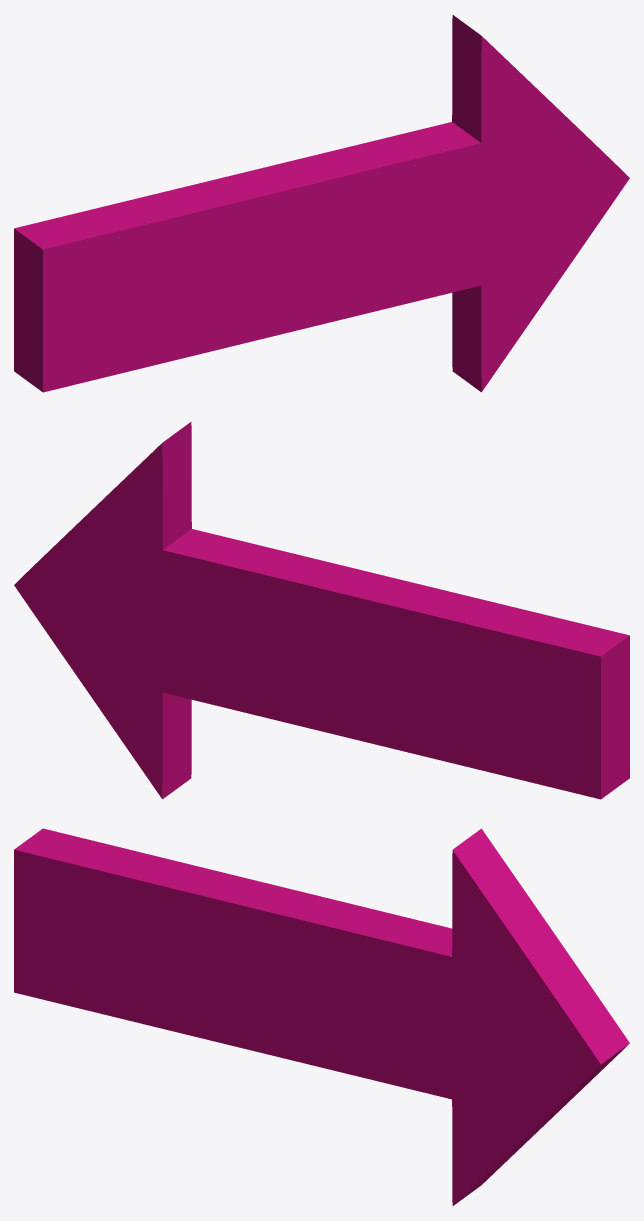
Rendered from sipkaRovne.obj.
The picture shows the model from 3 angles, top to bottom: view 1: azimuth 30°, elevation 25°; view 2: azimuth 150°, elevation 25°; view 3: azimuth 330°, elevation 25°; orthographic projection.
Visible parts, largest first — view 1: obj_0; view 2: obj_0; view 3: obj_0.
Boxes of the visible parts, <box> form: obj_0: <box>14,15,629,392</box>; obj_0: <box>14,422,629,799</box>; obj_0: <box>14,828,629,1205</box>.
Bounding box in the file's own units: 35 × 20.33 × 3.
